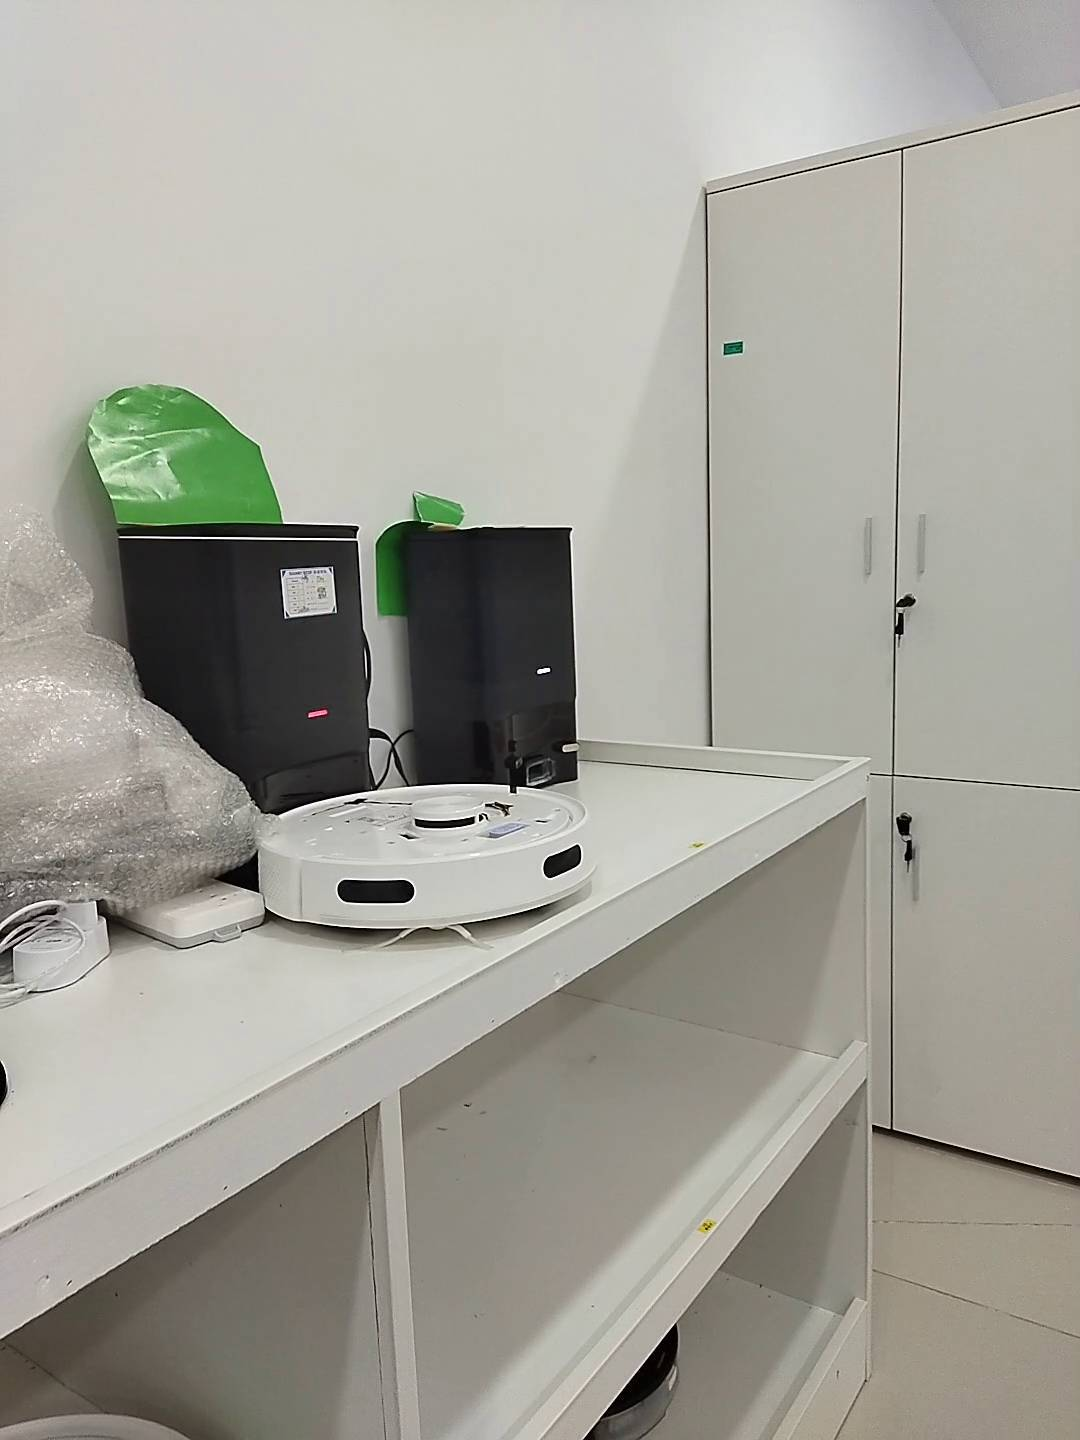dust collecting barrel: (119, 522, 372, 815), (405, 526, 582, 790)
